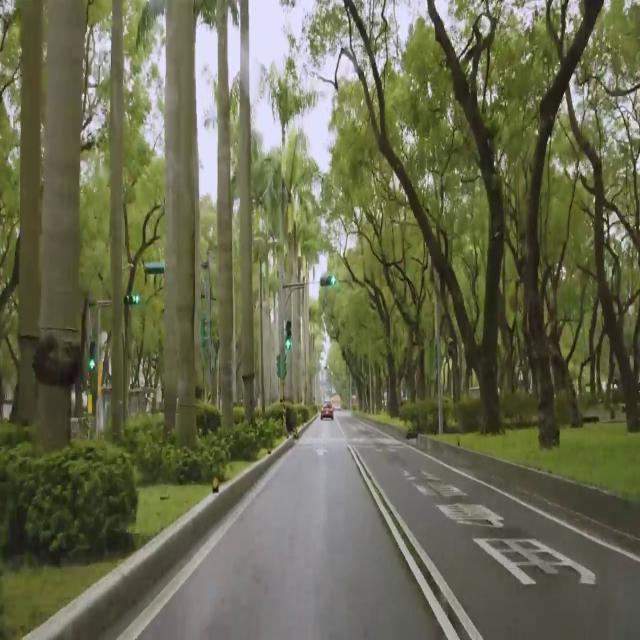green light: (319, 276, 337, 286)
